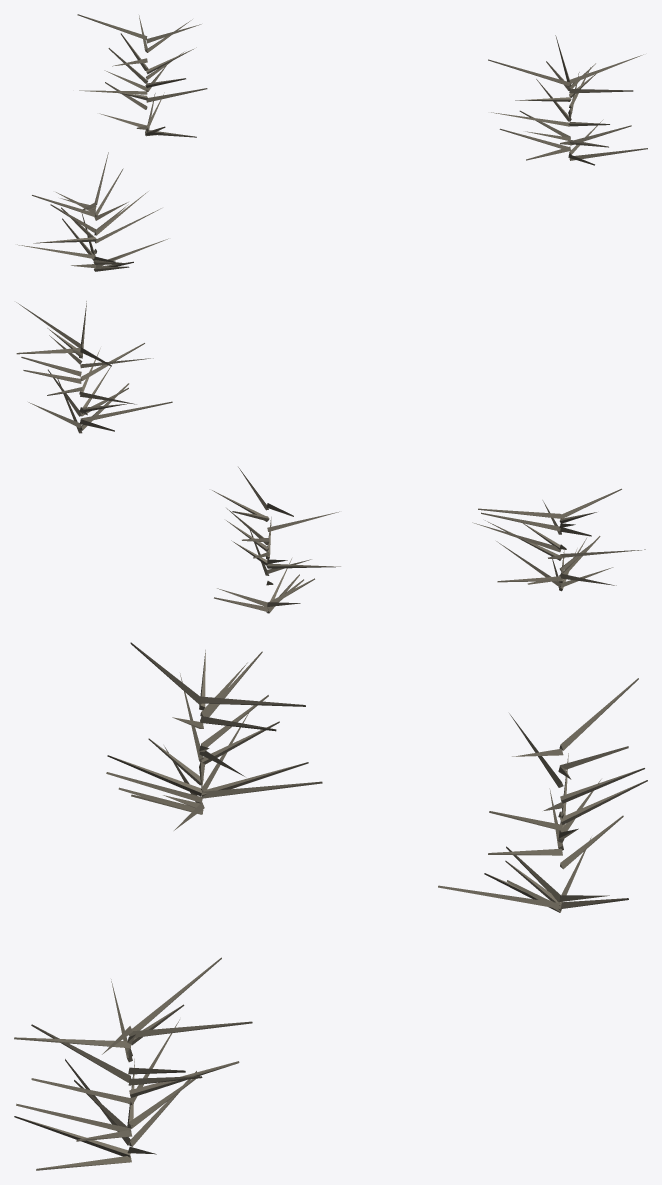
The model's file is xiyuan-vegetation-09-medium.glb.
3 views of the same model, one above another, from view 1: azimuth 30°, elevation 25°; view 2: azimuth 150°, elevation 25°; view 3: azimuth 270°, elevation 25° (orthographic). The views are drawn at different scales.
Visible parts, largest first — view 1: vegetation willow branches; view 2: vegetation willow branches; view 3: vegetation willow branches.
Boxes of the visible parts, box(x1,y1,x2,y2) form: vegetation willow branches: box(17, 14, 647, 271); vegetation willow branches: box(16, 301, 645, 613); vegetation willow branches: box(14, 642, 647, 1170).
Size of the model in its own units: 27.13 by 5.92 by 14.82.
